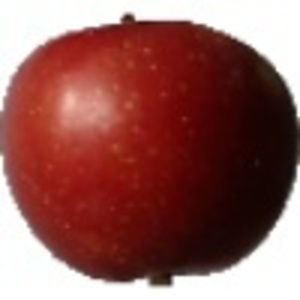maçã braeburn: (1, 10, 299, 285)
